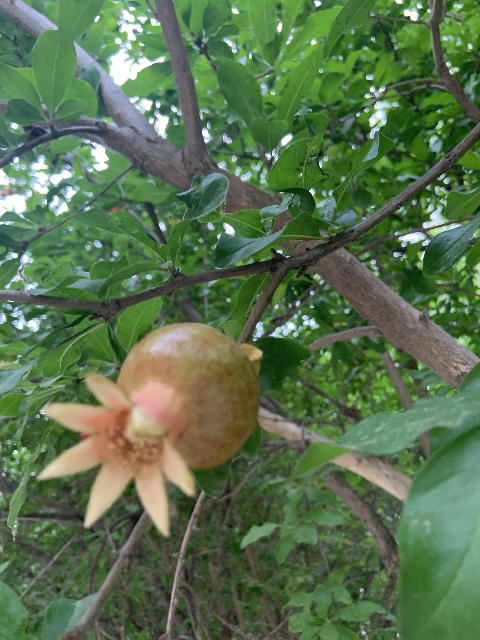early-fruit: (38, 323, 258, 537)
